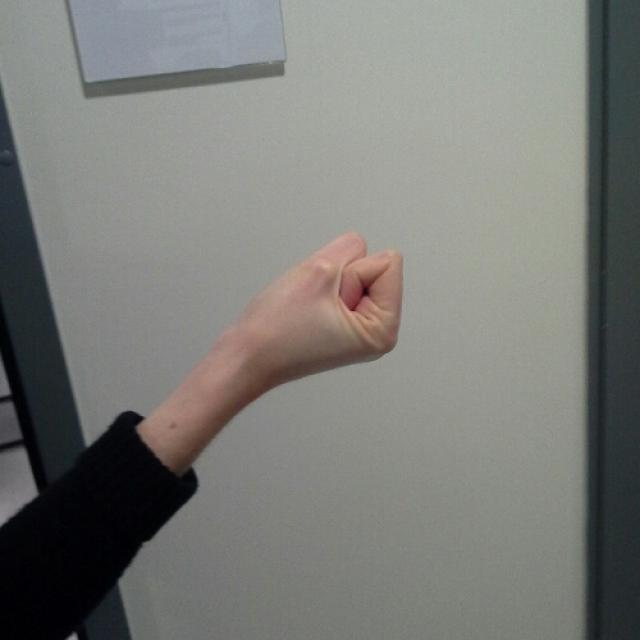fist: (252, 223, 406, 390)
